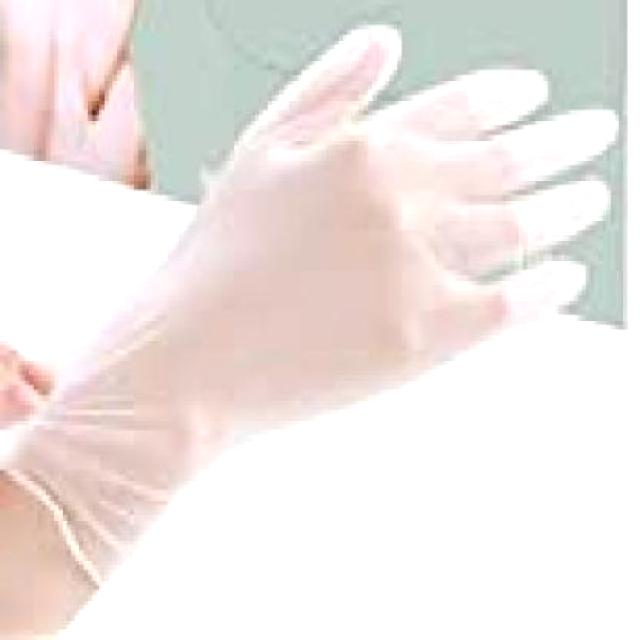glove: (4, 21, 630, 608)
